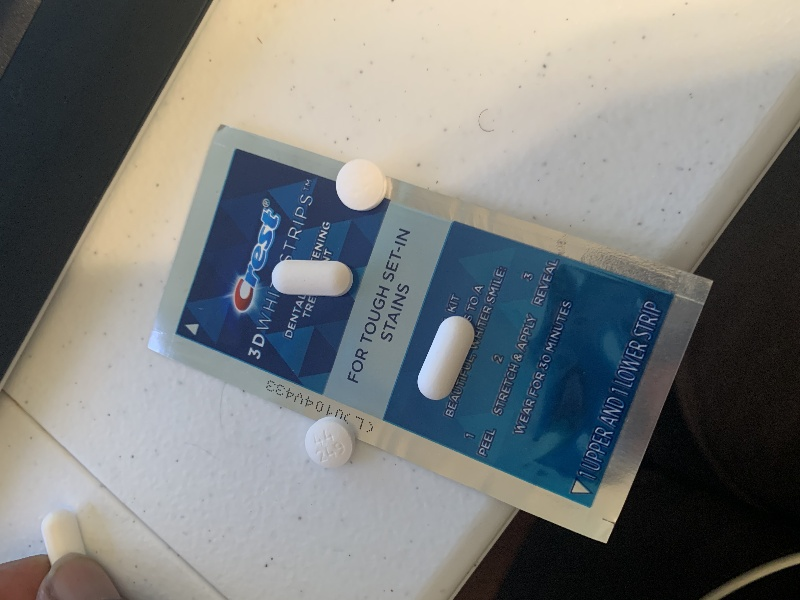Aspirin: (329, 154, 397, 219), (300, 411, 361, 472)
Tylenol: (412, 311, 481, 404), (267, 253, 360, 303)
